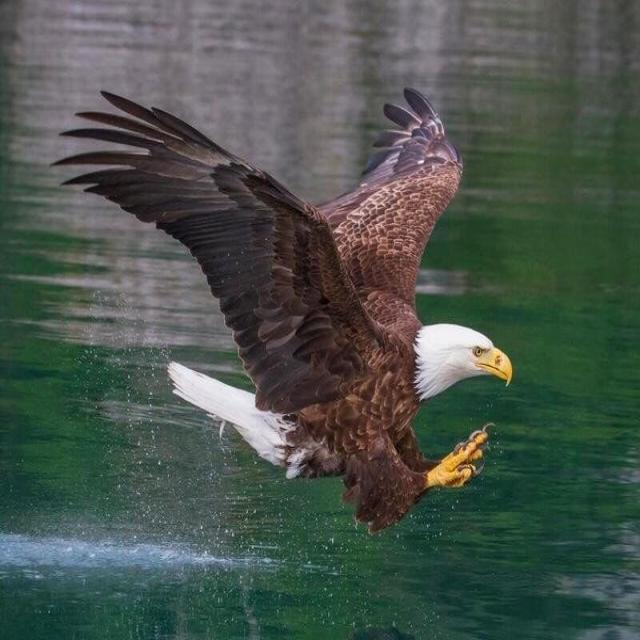eagle: (54, 89, 511, 531)
